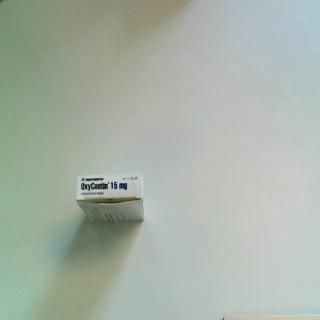oxycontin15mg: (76, 173, 146, 226)
